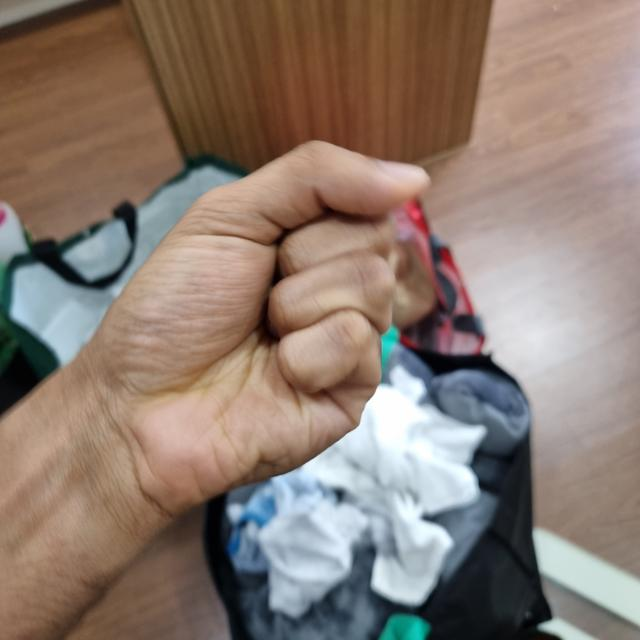Rock: (23, 142, 427, 503)
